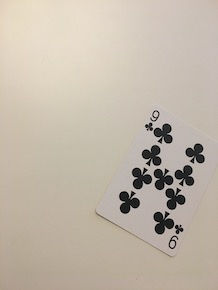NineOfClubs: (91, 102, 218, 258)
